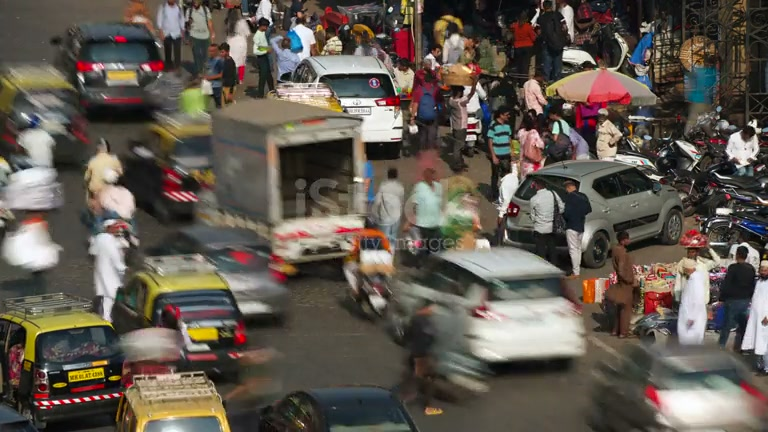car: (382, 241, 588, 371), (495, 158, 686, 266), (583, 331, 768, 430), (110, 252, 248, 380), (0, 292, 127, 430), (286, 55, 405, 157), (51, 21, 165, 121), (256, 386, 420, 431), (114, 371, 232, 432), (268, 213, 368, 275)
motorcycle: (120, 142, 204, 224), (339, 227, 395, 322), (699, 194, 768, 258)
pedestrian: (87, 217, 137, 322), (80, 161, 139, 248), (718, 245, 757, 352), (399, 167, 446, 249), (604, 231, 637, 338), (368, 166, 406, 249), (528, 177, 564, 264), (561, 177, 591, 277), (742, 259, 768, 374), (486, 107, 514, 197), (185, 0, 215, 78), (251, 17, 277, 98), (158, 0, 185, 69), (725, 124, 759, 170), (595, 109, 623, 161)
